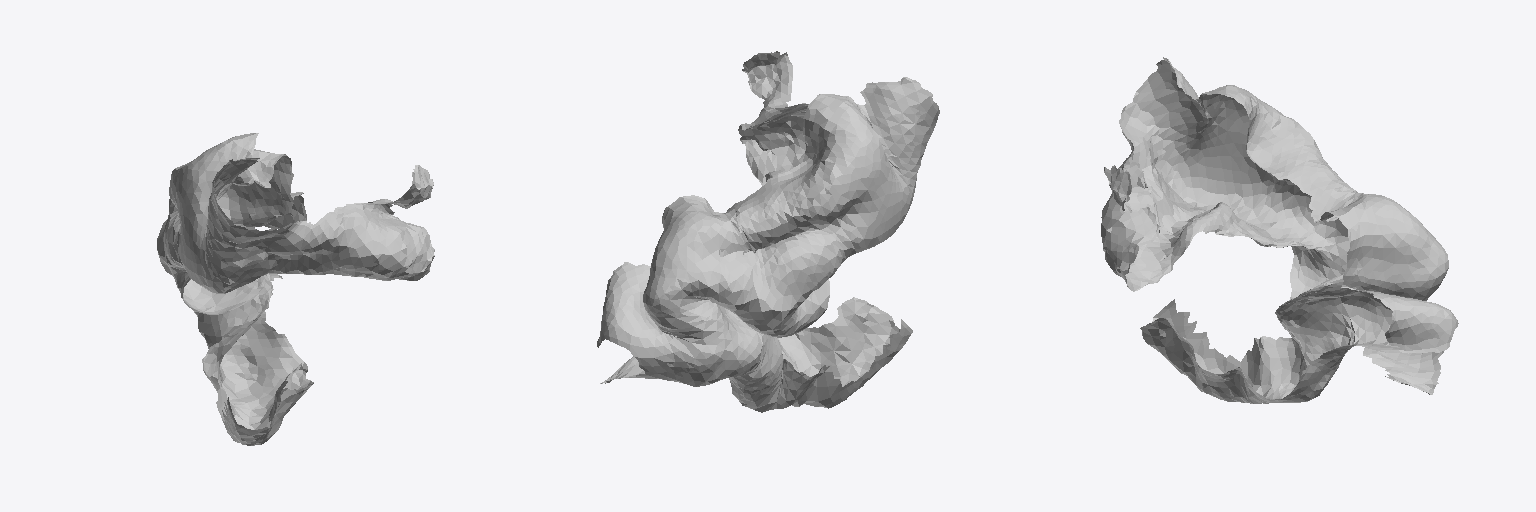
The model's file is R_parietal_supramarginal.obj.
3 renders of one model, left to right at view 1: azimuth 30°, elevation 25°; view 2: azimuth 150°, elevation 25°; view 3: azimuth 270°, elevation 25°, orthographic.
Visible parts, largest first — view 1: R_parietal_supramarginal_L_parietal_supramarginal; view 2: R_parietal_supramarginal_L_parietal_supramarginal; view 3: R_parietal_supramarginal_L_parietal_supramarginal.
Part boxes in pixels (bbox=[...]): R_parietal_supramarginal_L_parietal_supramarginal: bbox=[157, 133, 434, 445]; R_parietal_supramarginal_L_parietal_supramarginal: bbox=[597, 51, 939, 412]; R_parietal_supramarginal_L_parietal_supramarginal: bbox=[1101, 57, 1458, 403].
Bounding box in the file's own units: 110 × 158 × 162.